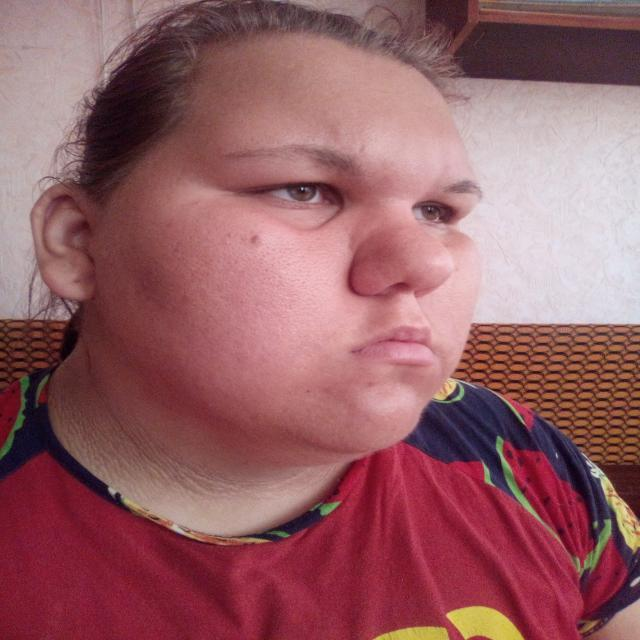acne: (246, 231, 272, 251), (362, 376, 390, 393)
dark circle: (256, 200, 356, 233)
pores: (216, 255, 330, 346), (278, 236, 350, 256), (451, 277, 473, 312), (438, 314, 464, 341)
